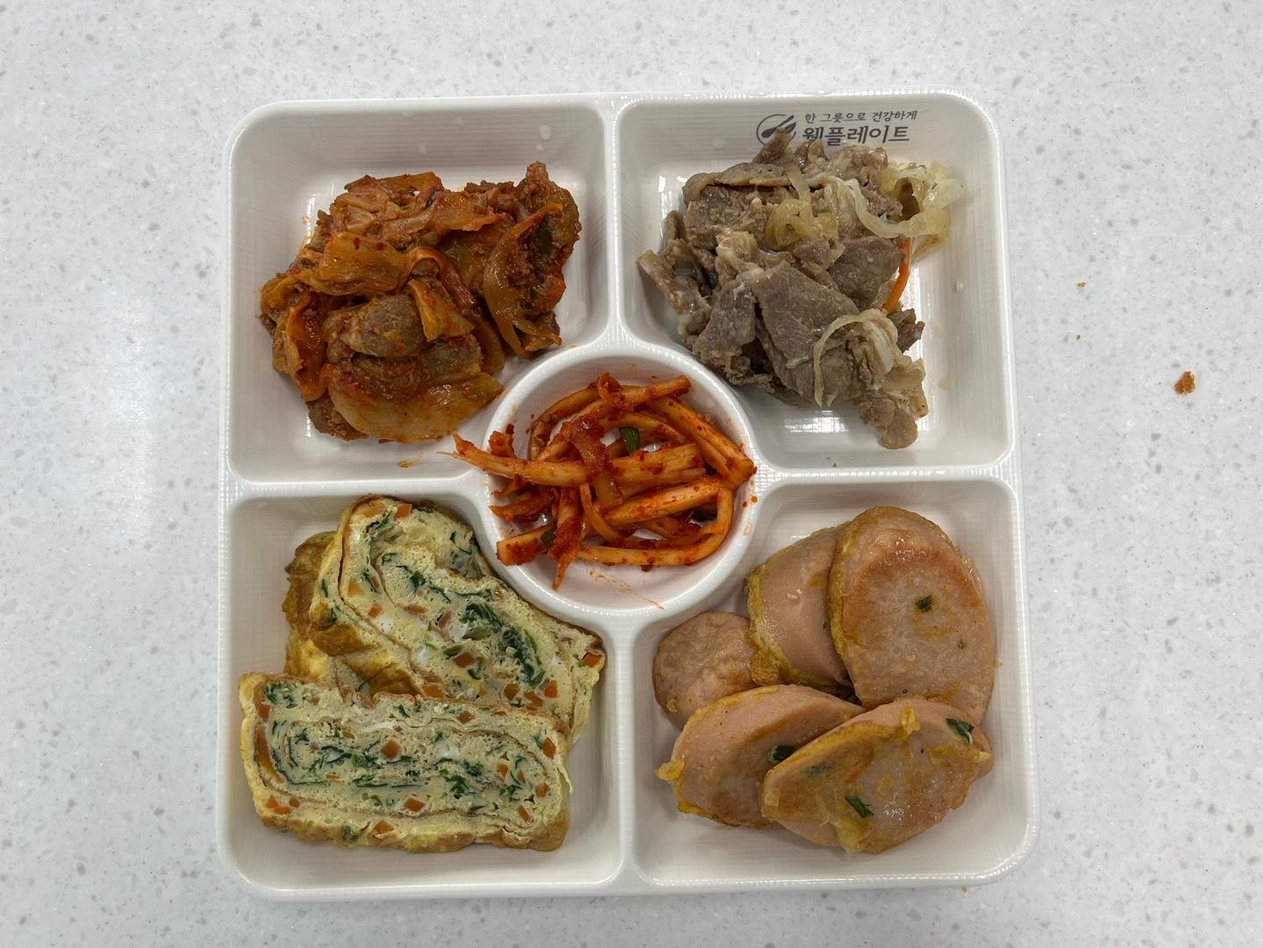food: (233, 496, 609, 859), (640, 502, 1014, 864), (659, 514, 1028, 862), (241, 516, 591, 870), (624, 115, 974, 463), (656, 126, 965, 428), (256, 137, 573, 431), (255, 165, 583, 448), (452, 365, 761, 589), (477, 376, 750, 588)
